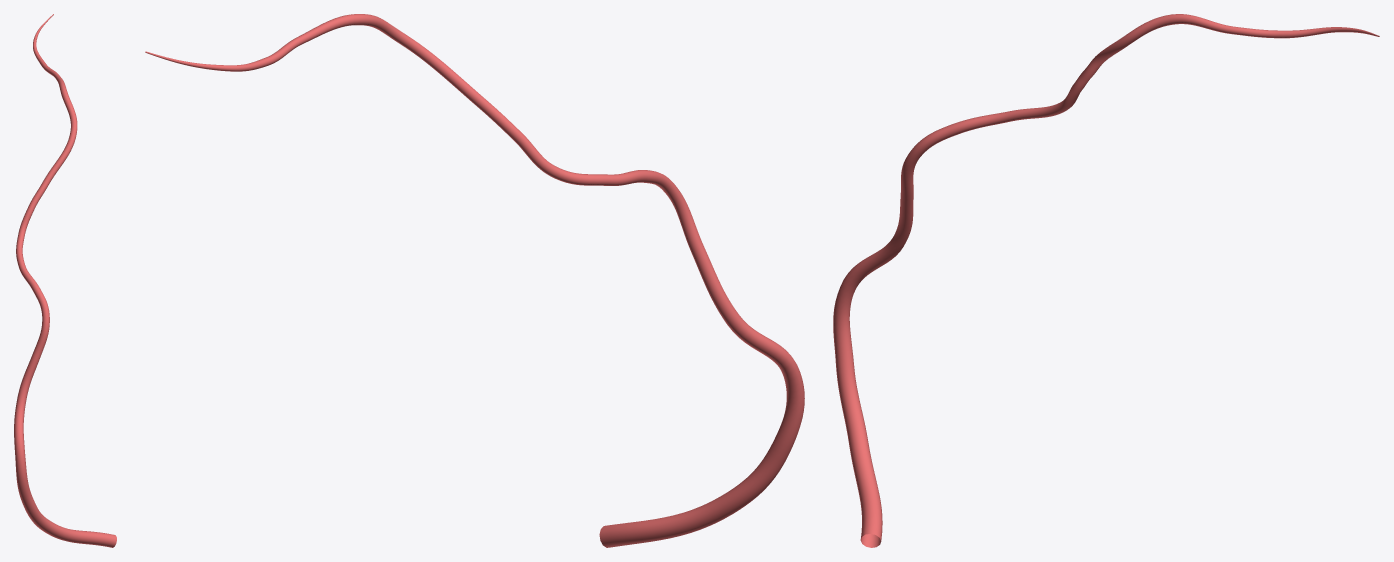
Rendered from Artery_central_sulcus_right.glb.
3 renders of one model, left to right at view 1: azimuth 30°, elevation 25°; view 2: azimuth 150°, elevation 25°; view 3: azimuth 270°, elevation 25°, orthographic. The views are drawn at different scales.
Visible parts, largest first — view 1: Artery_of_central_sulcus.r_BezierCurve.079; view 2: Artery_of_central_sulcus.r_BezierCurve.079; view 3: Artery_of_central_sulcus.r_BezierCurve.079.
Part boxes in pixels (x1,y1,x2,y2): Artery_of_central_sulcus.r_BezierCurve.079: (14, 14, 116, 547); Artery_of_central_sulcus.r_BezierCurve.079: (145, 14, 804, 547); Artery_of_central_sulcus.r_BezierCurve.079: (833, 14, 1379, 547).
Size of the model in its own units: 0.0289 by 0.0504 by 0.0421.
